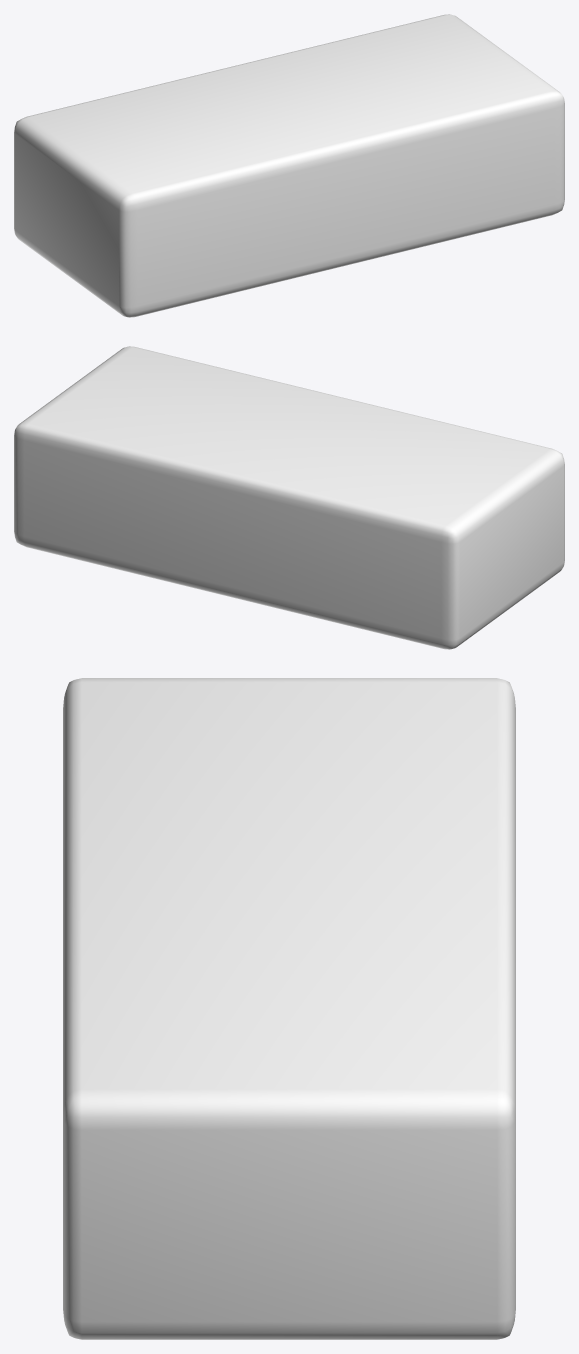
Rendered from foam_floor.fbx.
3 views of the same model, one above another, from view 1: azimuth 30°, elevation 25°; view 2: azimuth 150°, elevation 25°; view 3: azimuth 270°, elevation 25° (orthographic). The views are drawn at different scales.
Parts seen in each view (by area): view 1: 3666_193_mesh; view 2: 3666_193_mesh; view 3: 3666_193_mesh.
Boxes of the visible parts, x1,y1,x2,y2 form: 3666_193_mesh: (14, 14, 564, 317); 3666_193_mesh: (14, 346, 564, 649); 3666_193_mesh: (63, 678, 515, 1339).
Bounding box in the file's own units: 68 × 18 × 30.
1 material, 1 textured.
